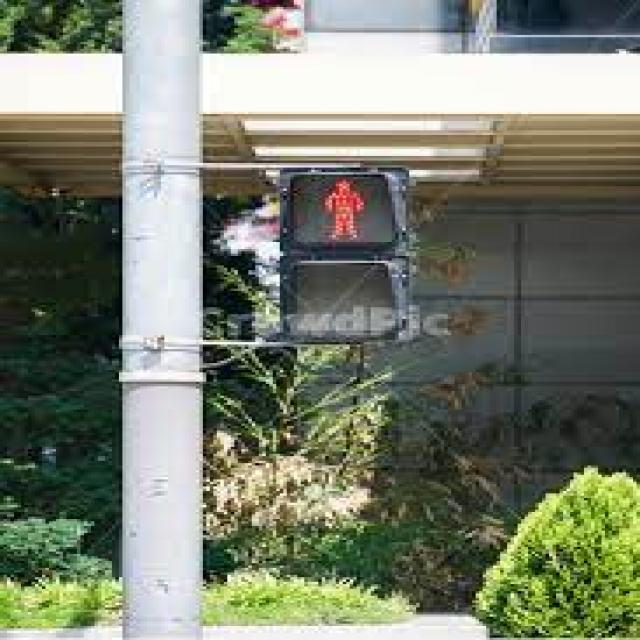Not go: (274, 158, 479, 270)
